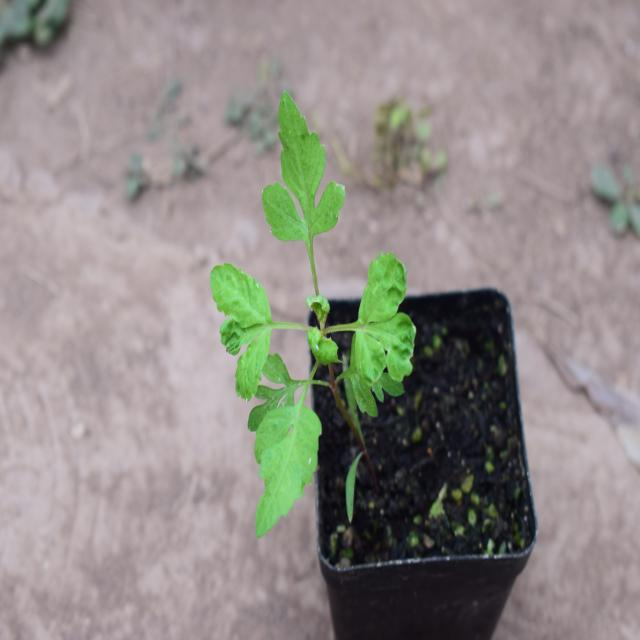Bidens pilosa: (204, 94, 418, 519)
